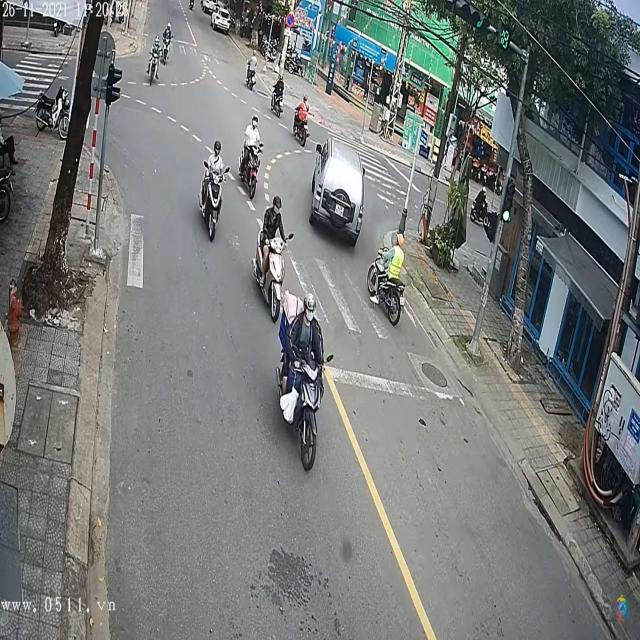car: (308, 141, 363, 243)
motorcycle: (275, 330, 335, 474), (251, 218, 286, 323), (365, 234, 407, 314), (199, 163, 228, 244), (238, 135, 264, 202), (292, 104, 311, 148), (270, 82, 285, 123), (148, 43, 159, 87)
